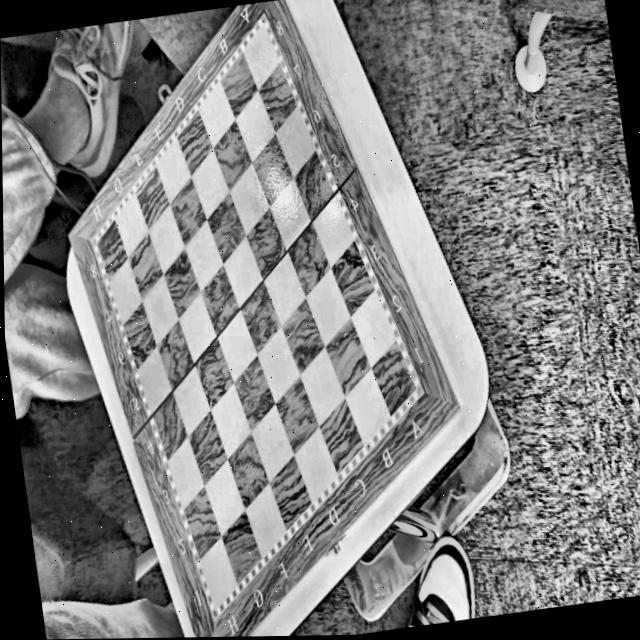chessboard: (67, 0, 452, 637)
